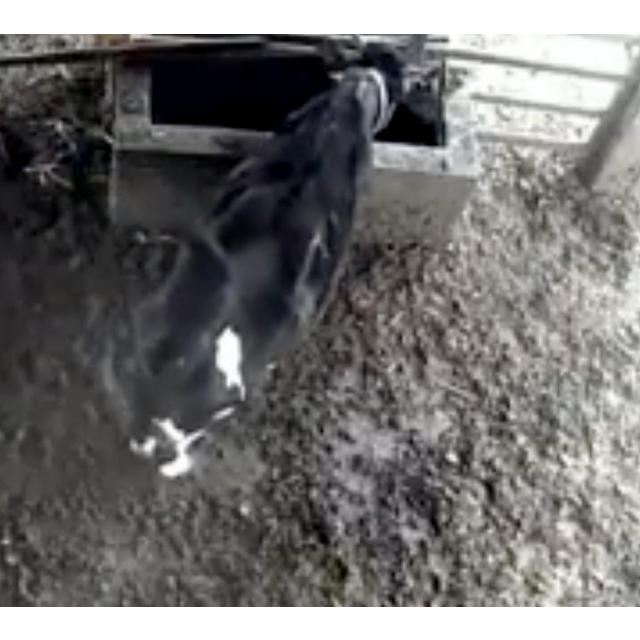drink: (280, 39, 460, 168)
